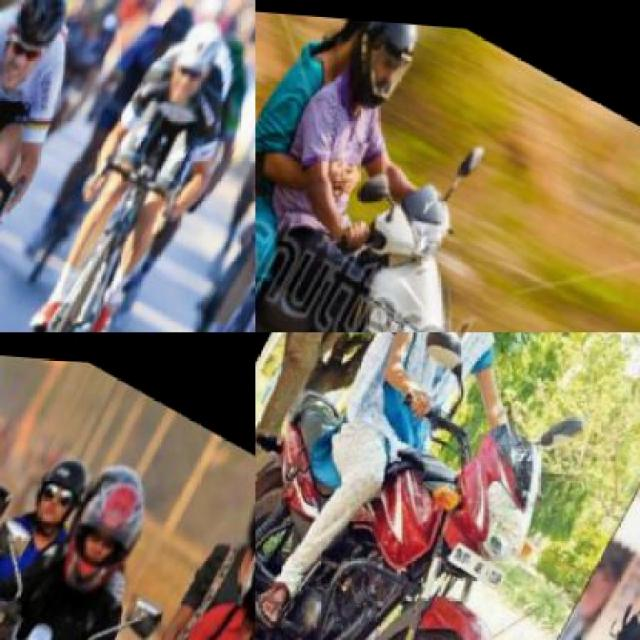With Helmet: (41, 454, 164, 604), (325, 14, 437, 126), (146, 0, 245, 114), (0, 0, 86, 103), (24, 436, 102, 533), (214, 494, 254, 638), (0, 343, 28, 468), (232, 454, 254, 566)
